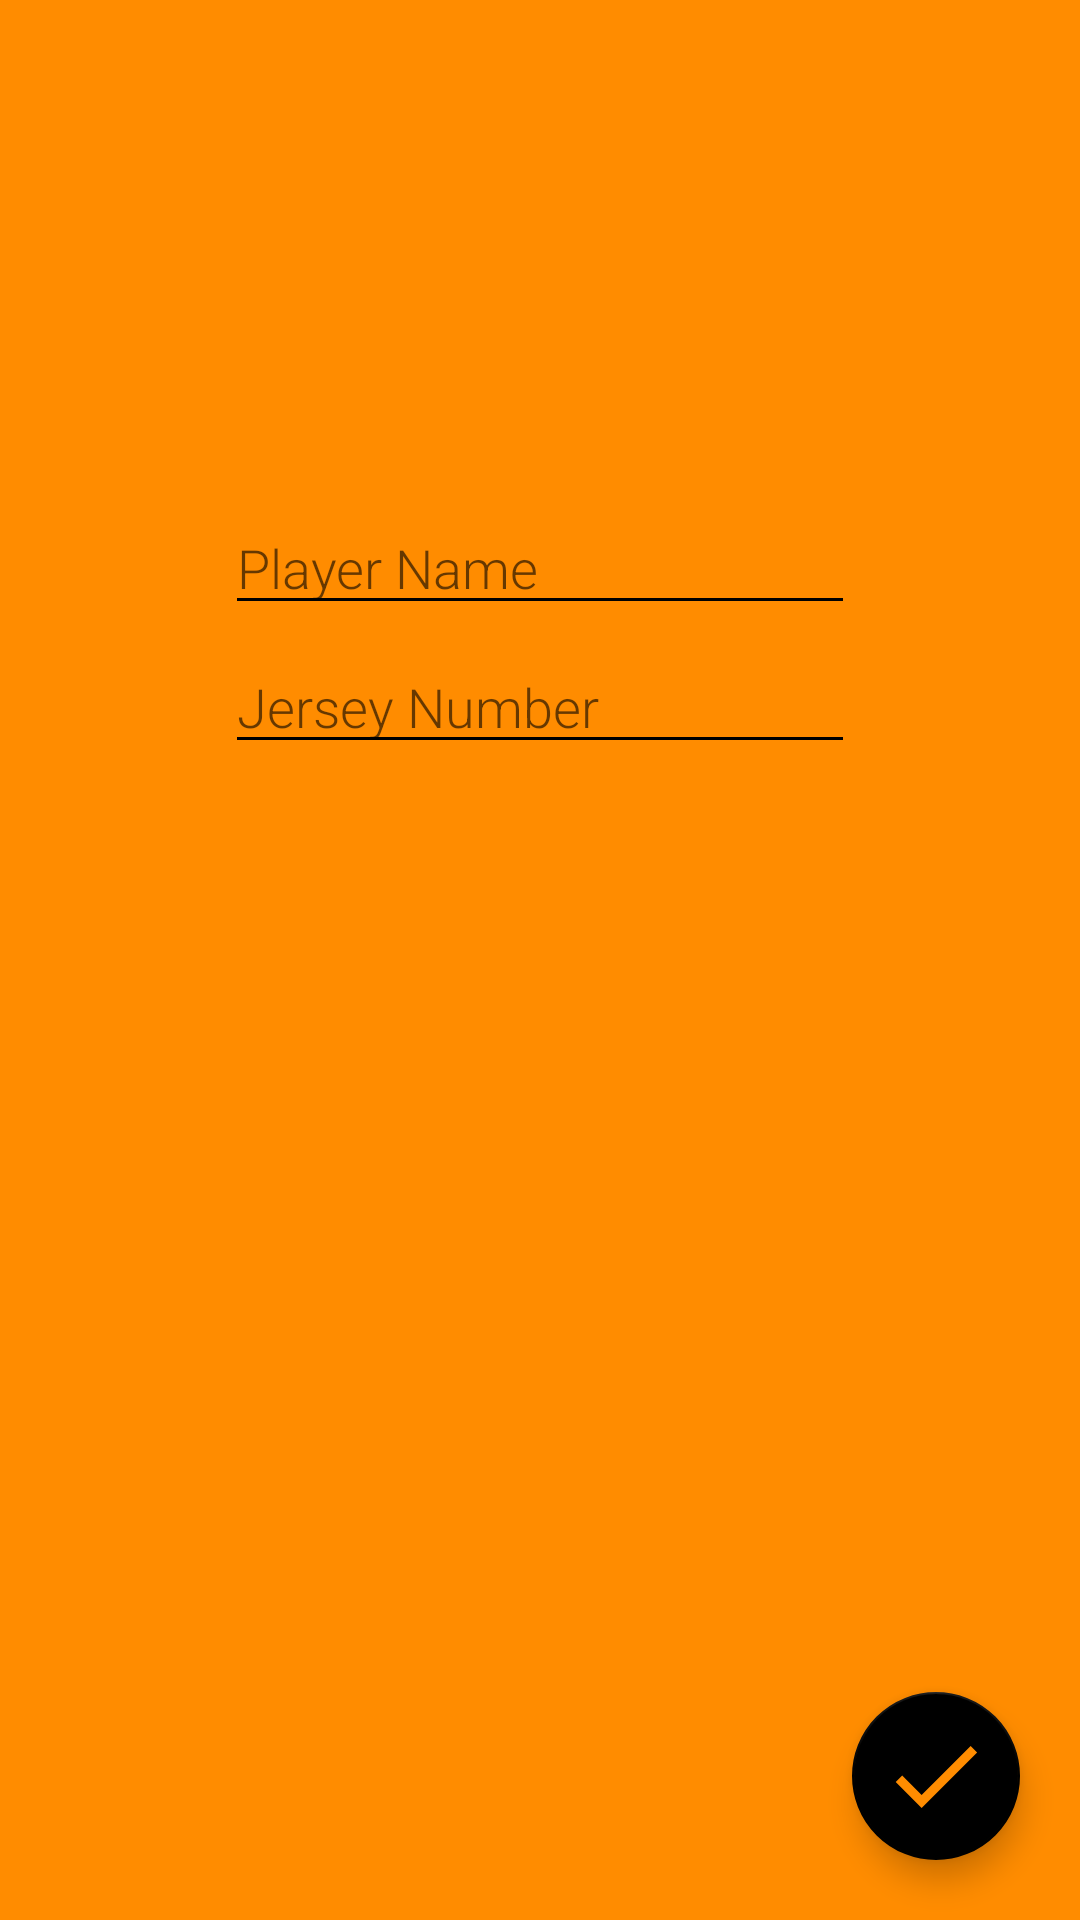

Icon click points for this 1080x1920 phone screenshot, format point (x, y):
done: point (936, 1776)
